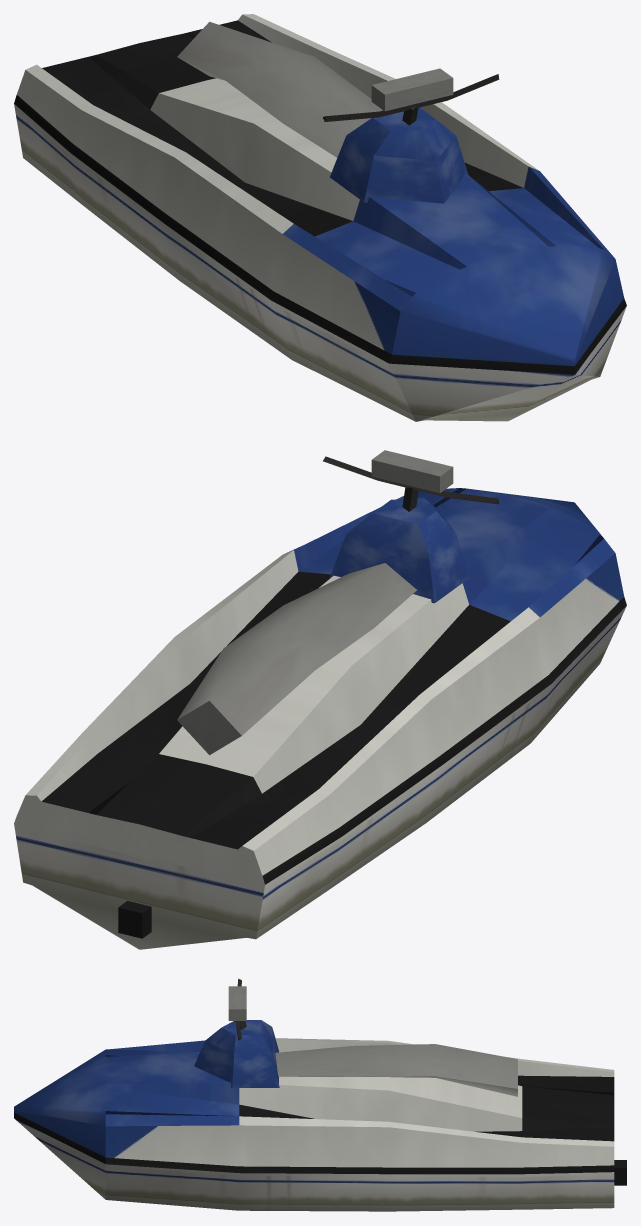
Rendered from jetSki-a-lod2.glb.
3 renders of one model, top to bottom at view 1: azimuth 30°, elevation 25°; view 2: azimuth 150°, elevation 25°; view 3: azimuth 270°, elevation 25°, orthographic. The views are drawn at different scales.
Parts seen in each view (by area): view 1: Hull, Superstructure; view 2: Hull, Superstructure; view 3: Hull, Superstructure.
Part boxes in pixels (box(x1,y1,x2,y2)): Hull: box(14, 14, 626, 421); Superstructure: box(177, 21, 499, 203); Hull: box(14, 488, 626, 949); Superstructure: box(177, 450, 499, 755); Hull: box(14, 1038, 626, 1211); Superstructure: box(194, 978, 517, 1096).
Size of the model in its own units: 1.23 by 1.2 by 3.37.
1 material, 1 textured.
